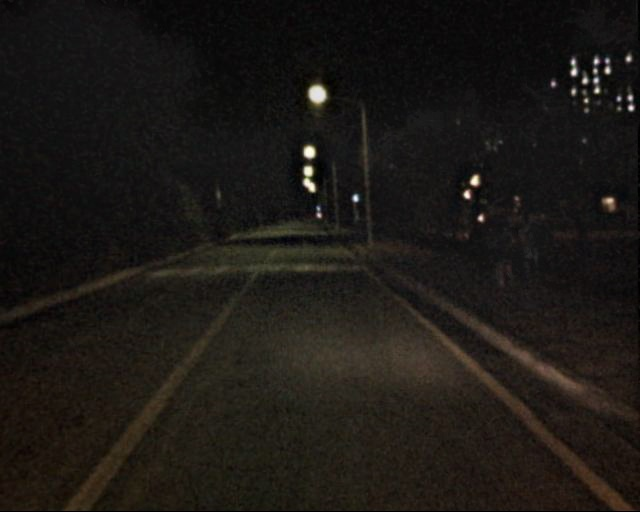person: (516, 207, 550, 290), (487, 214, 518, 290)
